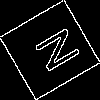N: (25, 24, 82, 80)
